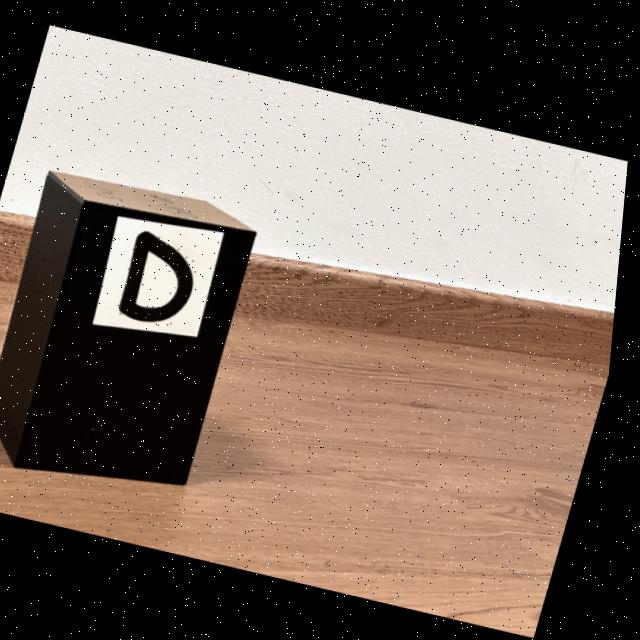D: (125, 230, 198, 320)
